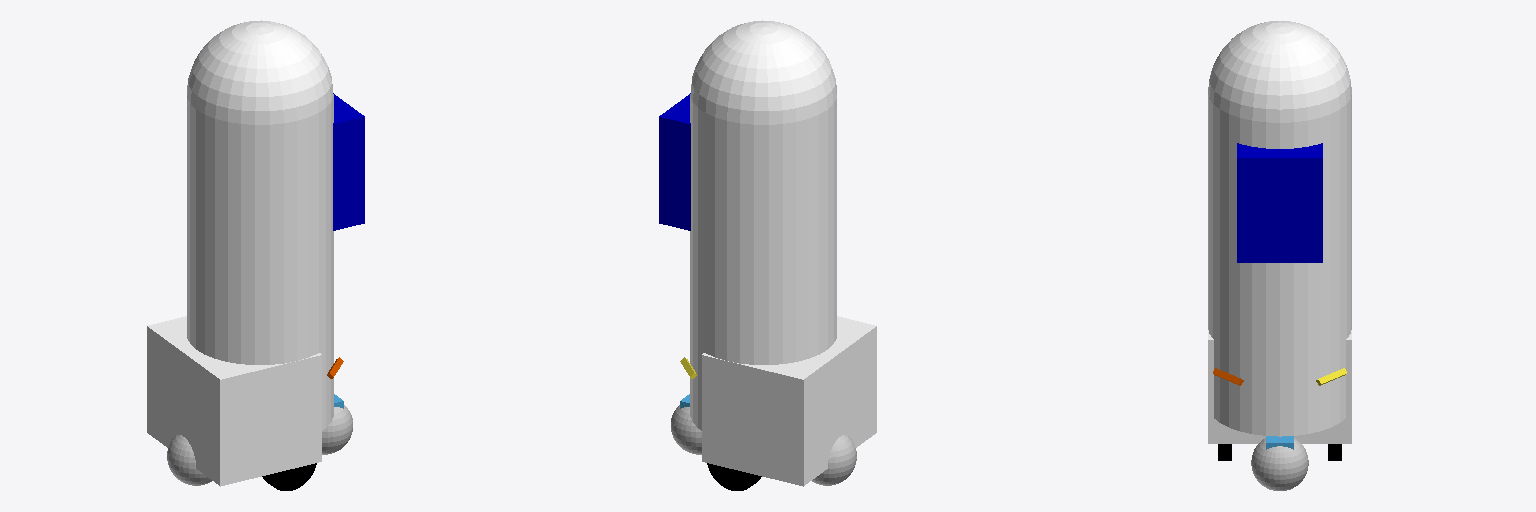
URDF robot description (deliverybot):
<?xml version="1.0" ?>
<!-- =================================================================================== -->
<!-- |    This document was autogenerated by xacro from deliverybot.urdf.xacro         | -->
<!-- |    EDITING THIS FILE BY HAND IS NOT RECOMMENDED                                 | -->
<!-- =================================================================================== -->
<robot name="deliverybot">
  <!-- source en.wikipedia.org/wiki/List_of_moments_of_inertia-->
  <material name="Red">
    <color rgba="1 0 0 1"/>
  </material>
  <material name="Green">
    <color rgba="0 1 0 1"/>
  </material>
  <material name="Blue">
    <color rgba="0 0 0.8 1"/>
  </material>
  <material name="Black">
    <color rgba="0 0 0 1"/>
  </material>
  <material name="White">
    <color rgba="1 1 1 1"/>
  </material>
  <material name="Grey">
    <color rgba="0.8 0.8 0.8 1"/>
  </material>
  <material name="Yellow">
    <color rgba="1 1 0 1"/>
  </material>
  <material name="Orange">
    <color rgba="1 0.5 0 1"/>
  </material>
  <material name="Brown">
    <color rgba="0.6 0.4 0.2 1"/>
  </material>
  <material name="Purple">
    <color rgba="0.5 0 0.5 1"/>
  </material>
  <material name="Cyan">
    <color rgba="0 1 1 1"/>
  </material>
  <!-- Gazebo plugin for ROS Control -->
  <!-- <gazebo>
    <plugin name="gazebo_ros_control" filename="libgazebo_ros_control.so">
      <robotNamespace>/</robotNamespace>
    </plugin>
  </gazebo> -->
  <!-- <gazebo reference="front_lidar">
    <material>Gazebo/FlatBlack</material>
    <sensor type="ray" name="lds_lfcd_sensor">
      <pose>0 0 0 0 0 0</pose>
      <visualize>false</visualize>
      <update_rate>5</update_rate>
      <ray>
        <scan>
          <horizontal>
            <samples>180</samples>
            <resolution>1</resolution>
            <min_angle>${-M_PI_2} </min_angle>
            <max_angle>${M_PI_2}</max_angle>
          </horizontal>
        </scan>
        <range>
          <min>0.120</min>
          <max>3.5</max>
          <resolution>0.015</resolution>
        </range>
        <noise>
          <type>gaussian</type>
          <mean>0.0</mean>
          <stddev>0.01</stddev>
        </noise>
      </ray>
      <plugin name="gazebo_ros_lds_lfcd_controller" filename="libgazebo_ros_laser.so">
        <topicName>scan/front</topicName>
        <frameName>front_lidar</frameName>
      </plugin>
    </sensor>
  </gazebo>

  <gazebo reference="back_lidar">
    <material>Gazebo/FlatBlack</material>
    <sensor type="ray" name="lds_lfcd_sensor">
      <pose>0 0 0 0 0 0</pose>
      <visualize>false</visualize>
      <update_rate>5</update_rate>
      <ray>
        <scan>
          <horizontal>
            <samples>180</samples>
            <resolution>1</resolution>
            <min_angle>${M_PI_2} </min_angle>
            <max_angle>${-M_PI_2}</max_angle>
          </horizontal>
        </scan>
        <range>
          <min>0.120</min>
          <max>3.5</max>
          <resolution>0.015</resolution>
        </range>
        <noise>
          <type>gaussian</type>
          <mean>0.0</mean>
          <stddev>0.01</stddev>
        </noise>
      </ray>
      <plugin name="gazebo_ros_lds_lfcd_controller" filename="libgazebo_ros_laser.so">
        <topicName>scan/back</topicName>
        <frameName>back_lidar</frameName>
      </plugin>
    </sensor>
  </gazebo> -->
  <link name="base_footprint"/>
  <link name="base_link">
    <visual>
      <origin rpy="0 0 0" xyz="0 0 .7"/>
      <geometry>
        <cylinder length="1.2" radius="0.25"/>
      </geometry>
      <material name="White"/>
    </visual>
    <collision>
      <origin rpy="0 0 0" xyz="0 0 .7"/>
      <geometry>
        <cylinder length="1.2" radius="0.25"/>
      </geometry>
    </collision>
    <inertial>
      <mass value="10"/>
      <inertia ixx="1.35625" ixy="0" ixz="0" iyy="1.35625" iyz="0" izz="0.3125"/>
    </inertial>
  </link>
  <gazebo reference="base_link">
    <material>Gazebo/White</material>
    <mu1>0.2</mu1>
    <mu2>0.2</mu2>
    <kp>500000.0</kp>
    <kd>10.0</kd>
    <minDepth>0.001</minDepth>
    <maxVel>0.1</maxVel>
    <fdir1>1 0 0</fdir1>
  </gazebo>
  <joint name="base_joint" type="fixed">
    <parent link="base_footprint"/>
    <child link="base_link"/>
    <origin rpy="0 0 0" xyz="0 0 0.1"/>
  </joint>
  <link name="screen">
    <visual>
      <origin rpy="0 0 0" xyz=".25 0 1"/>
      <geometry>
        <box size="0.15 0.3 0.4"/>
      </geometry>
      <material name="Blue"/>
    </visual>
    <collision>
      <origin rpy="0 0 0" xyz=".25 0 1"/>
      <geometry>
        <box size="0.15 0.3 0.4"/>
      </geometry>
    </collision>
    <inertial>
      <mass value="1"/>
      <inertia ixx="0.020833333333333332" ixy="0" ixz="0" iyy="0.015208333333333336" iyz="0" izz="0.009375"/>
    </inertial>
  </link>
  <gazebo reference="screen">
    <material>Gazebo/Blue</material>
    <mu1>0.2</mu1>
    <mu2>0.2</mu2>
    <kp>500000.0</kp>
    <kd>10.0</kd>
    <minDepth>0.001</minDepth>
    <maxVel>0.1</maxVel>
    <fdir1>1 0 0</fdir1>
  </gazebo>
  <joint name="screen_joint" type="fixed">
    <parent link="base_link"/>
    <child link="screen"/>
    <origin rpy="0 0 0" xyz="0 0 0"/>
  </joint>
  <link name="butt">
    <visual>
      <origin rpy="0 0 0" xyz="0 0 0"/>
      <geometry>
        <box size="0.4 0.5 0.4"/>
      </geometry>
      <material name="White"/>
    </visual>
    <collision>
      <origin rpy="0 0 0" xyz="0 0 0"/>
      <geometry>
        <box size="0.4 0.5 0.4"/>
      </geometry>
    </collision>
    <inertial>
      <mass value="1"/>
      <inertia ixx="0.03416666666666667" ixy="0" ixz="0" iyy="0.026666666666666672" iyz="0" izz="0.03416666666666667"/>
    </inertial>
  </link>
  <gazebo reference="butt">
    <material>Gazebo/White</material>
    <mu1>0.2</mu1>
    <mu2>0.2</mu2>
    <kp>500000.0</kp>
    <kd>10.0</kd>
    <minDepth>0.001</minDepth>
    <maxVel>0.1</maxVel>
    <fdir1>1 0 0</fdir1>
  </gazebo>
  <joint name="butt_joint" type="fixed">
    <parent link="base_link"/>
    <child link="butt"/>
    <origin rpy="0 0 0" xyz="-.1 0 0.2"/>
  </joint>
  <link name="head">
    <visual>
      <origin rpy="0 0 0" xyz="0 0 0"/>
      <geometry>
        <sphere radius="0.25"/>
      </geometry>
      <material name="White"/>
    </visual>
    <collision>
      <origin rpy="0 0 0" xyz="0 0 0"/>
      <geometry>
        <sphere radius="0.25"/>
      </geometry>
    </collision>
    <inertial>
      <mass value="1"/>
      <inertia ixx="0.025" ixy="0" ixz="0" iyy="0.025" iyz="0" izz="0.025"/>
    </inertial>
  </link>
  <gazebo reference="head">
    <material>Gazebo/White</material>
    <mu1>0.2</mu1>
    <mu2>0.2</mu2>
    <kp>500000.0</kp>
    <kd>10.0</kd>
    <minDepth>0.001</minDepth>
    <maxVel>0.1</maxVel>
    <fdir1>1 0 0</fdir1>
  </gazebo>
  <joint name="joint_head" type="fixed">
    <parent link="base_link"/>
    <child link="head"/>
    <origin rpy="0 0 0" xyz="0 0 1.3"/>
  </joint>
  <link name="left_wheel">
    <visual>
      <origin rpy="0 0 0" xyz="0 0 0"/>
      <geometry>
        <cylinder length="0.05" radius="0.1"/>
      </geometry>
      <material name="Black"/>
    </visual>
    <collision>
      <origin rpy="0 0 0" xyz="0 0 0"/>
      <geometry>
        <cylinder length="0.05" radius="0.1"/>
      </geometry>
    </collision>
    <inertial>
      <mass value="0.1"/>
      <inertia ixx="0.00027083333333333343" ixy="0" ixz="0" iyy="0.00027083333333333343" iyz="0" izz="0.0005000000000000001"/>
    </inertial>
  </link>
  <gazebo reference="left_wheel">
    <material>Gazebo/Black</material>
    <mu1>1000</mu1>
    <mu2>1000</mu2>
    <kp>500000.0</kp>
    <kd>10.0</kd>
    <minDepth>0.001</minDepth>
    <maxVel>0.1</maxVel>
    <fdir1>1 0 0</fdir1>
  </gazebo>
  <joint name="left_wheel_joint" type="continuous">
    <axis rpy="0 0 0" xyz="0 0 1"/>
    <parent link="base_link"/>
    <child link="left_wheel"/>
    <origin rpy="-1.5707963267948966 0 0" xyz="0 0.19 0"/>
  </joint>
  <link name="right_wheel">
    <visual>
      <origin rpy="0 0 0" xyz="0 0 0"/>
      <geometry>
        <cylinder length="0.05" radius="0.1"/>
      </geometry>
      <material name="Black"/>
    </visual>
    <collision>
      <origin rpy="0 0 0" xyz="0 0 0"/>
      <geometry>
        <cylinder length="0.05" radius="0.1"/>
      </geometry>
    </collision>
    <inertial>
      <mass value="0.1"/>
      <inertia ixx="0.00027083333333333343" ixy="0" ixz="0" iyy="0.00027083333333333343" iyz="0" izz="0.0005000000000000001"/>
    </inertial>
  </link>
  <gazebo reference="right_wheel">
    <material>Gazebo/Black</material>
    <mu1>1000</mu1>
    <mu2>1000</mu2>
    <kp>500000.0</kp>
    <kd>10.0</kd>
    <minDepth>0.001</minDepth>
    <maxVel>0.1</maxVel>
    <fdir1>1 0 0</fdir1>
  </gazebo>
  <joint name="right_wheel_joint" type="continuous">
    <axis rpy="0 0 0" xyz="0 0 1"/>
    <parent link="base_link"/>
    <child link="right_wheel"/>
    <origin rpy="-1.5707963267948966 0 0" xyz="0 -0.19 0"/>
  </joint>
  <gazebo>
    <plugin filename="libgazebo_ros_diff_drive.so" name="diff_drive_controller">
      <!-- Plugin update rate in Hz -->
      <!-- <updateRate>${update_rate}</updateRate> -->
      <left_joint>left_wheel_joint</left_joint>
      <right_joint>right_wheel_joint</right_joint>
      <!-- kinematics -->
      <wheel_separation>0.38</wheel_separation>
      <wheel_diameter>0.2</wheel_diameter>
      <!-- limits -->
      <max_wheel_acceleration>1.0</max_wheel_acceleration>
      <max_wheel_torque>20</max_wheel_torque>
      <!-- topics and frames -->
      <command_topic>cmd_vel</command_topic>
      <odometry_topic>odom</odometry_topic>
      <odometry_frame>odom</odometry_frame>
      <robot_base_frame>base_footprint</robot_base_frame>
      <!-- Odometry source, 0 for ENCODER, 1 for WORLD, defaults to WORLD -->
      <!-- <odometry_source>world</odometry_source> -->
      <!-- output -->
      <publish_odom>true</publish_odom>
      <publish_odom_tf>False</publish_odom_tf>
      <publish_wheel_tf>false</publish_wheel_tf>
      <!-- <publish_wheel_joint_state>true</publish_wheel_joint_state> -->
      <!-- <publish_tf>true</publish_tf> -->
    </plugin>
  </gazebo>
  <link name="casterwheel_back">
    <visual>
      <origin rpy="0 0 0" xyz="0 0 0"/>
      <geometry>
        <sphere radius="0.1"/>
      </geometry>
      <material name="Grey"/>
    </visual>
    <collision>
      <origin rpy="0 0 0" xyz="0 0 0"/>
      <geometry>
        <sphere radius="0.1"/>
      </geometry>
    </collision>
    <inertial>
      <mass value="0.1"/>
      <inertia ixx="0.0004000000000000001" ixy="0" ixz="0" iyy="0.0004000000000000001" iyz="0" izz="0.0004000000000000001"/>
    </inertial>
  </link>
  <gazebo reference="casterwheel_back">
    <material>Gazebo/Grey</material>
    <mu1>0.1</mu1>
    <mu2>0.1</mu2>
    <kp>500000.0</kp>
    <kd>10.0</kd>
    <minDepth>0.001</minDepth>
    <maxVel>0.1</maxVel>
    <fdir1>1 0 0</fdir1>
  </gazebo>
  <joint name="joint_casterwheel_back" type="fixed">
    <parent link="base_link"/>
    <child link="casterwheel_back"/>
    <origin rpy="0 0 0" xyz="-.25 0 -.0"/>
  </joint>
  <link name="casterwheel_front">
    <visual>
      <origin rpy="0 0 0" xyz="0 0 0"/>
      <geometry>
        <sphere radius="0.1"/>
      </geometry>
      <material name="Grey"/>
    </visual>
    <collision>
      <origin rpy="0 0 0" xyz="0 0 0"/>
      <geometry>
        <sphere radius="0.1"/>
      </geometry>
    </collision>
    <inertial>
      <mass value="0.1"/>
      <inertia ixx="0.0004000000000000001" ixy="0" ixz="0" iyy="0.0004000000000000001" iyz="0" izz="0.0004000000000000001"/>
    </inertial>
  </link>
  <gazebo reference="casterwheel_front">
    <material>Gazebo/Grey</material>
    <mu1>0.1</mu1>
    <mu2>0.1</mu2>
    <kp>500000.0</kp>
    <kd>10.0</kd>
    <minDepth>0.001</minDepth>
    <maxVel>0.1</maxVel>
    <fdir1>1 0 0</fdir1>
  </gazebo>
  <joint name="joint_casterwheel_front" type="fixed">
    <parent link="base_link"/>
    <child link="casterwheel_front"/>
    <origin rpy="0 0 0" xyz=".25 0 -.0"/>
  </joint>
  <link name="scan">
    <collision>
      <origin rpy="0 0 0" xyz="0 0 0"/>
      <geometry>
        <box size="0.1 0.1 0.1"/>
      </geometry>
    </collision>
    <visual>
      <origin rpy="0 0 0" xyz="0 0 0"/>
      <geometry>
        <box size="0.1 0.1 0.1"/>
        <!-- <mesh filename="package://urdf_basic_shapes/meshes/hokuyo.dae"/> -->
      </geometry>
    </visual>
    <inertial>
      <mass value="1e-5"/>
      <origin rpy="0 0 0" xyz="0 0 0"/>
      <inertia ixx="1e-6" ixy="0" ixz="0" iyy="1e-6" iyz="0" izz="1e-6"/>
    </inertial>
  </link>
  <joint name="scan_joint" type="fixed">
    <axis xyz="0 1 0"/>
    <origin rpy="0 3.141592653589793 0" xyz=".25 0 .05"/>
    <parent link="base_link"/>
    <child link="scan"/>
  </joint>
  <!-- hokuyo -->
  <gazebo reference="scan">
    <sensor name="scan_hokuyo_sensor" type="ray">
      <always_on>true</always_on>
      <visualize>true</visualize>
      <update_rate>10</update_rate>
      <ray>
        <scan>
          <horizontal>
            <samples>360</samples>
            <resolution>1</resolution>
            <min_angle>0.000000</min_angle>
            <max_angle>6.280000</max_angle>
          </horizontal>
        </scan>
        <range>
          <min>0.120000</min>
          <max>40</max>
          <resolution>0.030000</resolution>
        </range>
        <noise>
          <type>gaussian</type>
          <mean>0.0</mean>
          <stddev>0.05</stddev>
        </noise>
      </ray>
      <plugin filename="libgazebo_ros_ray_sensor.so" name="gazebo_ros_scan_controller">
        <ros>
          <remapping>~/out:=scan</remapping>
        </ros>
        <output_type>sensor_msgs/LaserScan</output_type>
        <frame_name>scan</frame_name>
      </plugin>
    </sensor>
  </gazebo>
  <link name="imu"/>
  <joint name="imu_joint" type="fixed">
    <axis xyz="0 0 0"/>
    <origin rpy="0 0 0" xyz="-0.15 0 .5"/>
    <parent link="base_link"/>
    <child link="imu"/>
  </joint>
  <!-- imu -->
  <gazebo reference="imu">
    <sensor name="imu" type="imu">
      <plugin filename="libgazebo_ros_imu_sensor.so" name="imu_plugin">
        <ros>
          <namespace/>
          <remapping>~/out:=imu</remapping>
        </ros>
        <initial_orientation_as_reference>false</initial_orientation_as_reference>
      </plugin>
      <always_on>true</always_on>
      <update_rate>100</update_rate>
      <visualize>true</visualize>
      <imu>
        <angular_velocity>
          <x>
            <noise type="gaussian">
              <mean>0.0</mean>
              <stddev>2e-4</stddev>
              <bias_mean>0.0000075</bias_mean>
              <bias_stddev>0.0000008</bias_stddev>
            </noise>
          </x>
          <y>
            <noise type="gaussian">
              <mean>0.0</mean>
              <stddev>2e-4</stddev>
              <bias_mean>0.0000075</bias_mean>
              <bias_stddev>0.0000008</bias_stddev>
            </noise>
          </y>
          <z>
            <noise type="gaussian">
              <mean>0.0</mean>
              <stddev>2e-4</stddev>
              <bias_mean>0.0000075</bias_mean>
              <bias_stddev>0.0000008</bias_stddev>
            </noise>
          </z>
        </angular_velocity>
        <linear_acceleration>
          <x>
            <noise type="gaussian">
              <mean>0.0</mean>
              <stddev>1.7e-2</stddev>
              <bias_mean>0.1</bias_mean>
              <bias_stddev>0.001</bias_stddev>
            </noise>
          </x>
          <y>
            <noise type="gaussian">
              <mean>0.0</mean>
              <stddev>1.7e-2</stddev>
              <bias_mean>0.1</bias_mean>
              <bias_stddev>0.001</bias_stddev>
            </noise>
          </y>
          <z>
            <noise type="gaussian">
              <mean>0.0</mean>
              <stddev>1.7e-2</stddev>
              <bias_mean>0.1</bias_mean>
              <bias_stddev>0.001</bias_stddev>
            </noise>
          </z>
        </linear_acceleration>
      </imu>
    </sensor>
  </gazebo>
  <!-- better not use "/" in "name" can cause some warnings -->
  <link name="cameraL">
    <visual>
      <origin rpy="0 0 0" xyz="0 0 0"/>
      <geometry>
        <box size="0.015 0.130 0.022"/>
      </geometry>
    </visual>
    <collision>
      <origin rpy="0 0 0 " xyz="0 0 0 "/>
      <geometry>
        <box size="0.015 0.130 0.022"/>
      </geometry>
    </collision>
    <inertial>
      <origin rpy="0 0 0 " xyz="0 0 0 "/>
      <mass value="0.035"/>
      <inertia ixx="0.001" ixy="0" ixz="0" iyy="0.001" iyz="0" izz="0.001"/>
    </inertial>
  </link>
  <joint name="cameraL_joint" type="fixed">
    <parent link="base_link"/>
    <child link="cameraL"/>
    <origin rpy="0 -0.7853981633974483 0.7853981633974483" xyz=".19 0.18 .3"/>
  </joint>
  <link name="cameraL_depth_frame"/>
  <joint name="cameraL_depth_joint" type="fixed">
    <origin rpy="-1.5707963267948966 0 -1.5707963267948966" xyz="0 0 0"/>
    <parent link="cameraL"/>
    <child link="cameraL_depth_frame"/>
  </joint>
  <gazebo reference="cameraL">
    <sensor name="depth_cameraL" type="depth">
      <visualize>true</visualize>
      <update_rate>30.0</update_rate>
      <camera name="cameraL">
        <horizontal_fov>1.047198</horizontal_fov>
        <image>
          <width>640</width>
          <height>480</height>
          <format>R8G8B8</format>
        </image>
        <clip>
          <near>0.05</near>
          <far>3</far>
        </clip>
      </camera>
      <plugin filename="libgazebo_ros_camera.so" name="depth_cameraL_controller">
        <baseline>0.2</baseline>
        <alwaysOn>true</alwaysOn>
        <updateRate>0.0</updateRate>
        <frame_name>cameraL_depth_frame</frame_name>
        <pointCloudCutoff>0.5</pointCloudCutoff>
        <pointCloudCutoffMax>3.0</pointCloudCutoffMax>
        <distortionK1>0</distortionK1>
        <distortionK2>0</distortionK2>
        <distortionK3>0</distortionK3>
        <distortionT1>0</distortionT1>
        <distortionT2>0</distortionT2>
        <CxPrime>0</CxPrime>
        <Cx>0</Cx>
        <Cy>0</Cy>
        <focalLength>0</focalLength>
        <hackBaseline>0</hackBaseline>
      </plugin>
    </sensor>
  </gazebo>
  <link name="cameraR">
    <visual>
      <origin rpy="0 0 0" xyz="0 0 0"/>
      <geometry>
        <box size="0.015 0.130 0.022"/>
      </geometry>
    </visual>
    <collision>
      <origin rpy="0 0 0 " xyz="0 0 0 "/>
      <geometry>
        <box size="0.015 0.130 0.022"/>
      </geometry>
    </collision>
    <inertial>
      <origin rpy="0 0 0 " xyz="0 0 0 "/>
      <mass value="0.035"/>
      <inertia ixx="0.001" ixy="0" ixz="0" iyy="0.001" iyz="0" izz="0.001"/>
    </inertial>
  </link>
  <joint name="cameraR_joint" type="fixed">
    <parent link="base_link"/>
    <child link="cameraR"/>
    <origin rpy="3.141592653589793 -0.7853981633974483 -0.7853981633974483" xyz=".19 -.18 .3"/>
  </joint>
  <link name="cameraR_depth_frame"/>
  <joint name="cameraR_depth_joint" type="fixed">
    <origin rpy="-1.5707963267948966 0 -1.5707963267948966" xyz="0 0 0"/>
    <parent link="cameraR"/>
    <child link="cameraR_depth_frame"/>
  </joint>
  <gazebo reference="cameraR">
    <sensor name="depth_cameraR" type="depth">
      <visualize>true</visualize>
      <update_rate>30.0</update_rate>
      <camera name="cameraR">
        <horizontal_fov>1.047198</horizontal_fov>
        <image>
          <width>640</width>
          <height>480</height>
          <format>R8G8B8</format>
        </image>
        <clip>
          <near>0.05</near>
          <far>3</far>
        </clip>
      </camera>
      <plugin filename="libgazebo_ros_camera.so" name="depth_cameraR_controller">
        <baseline>0.2</baseline>
        <alwaysOn>true</alwaysOn>
        <updateRate>0.0</updateRate>
        <frame_name>cameraR_depth_frame</frame_name>
        <pointCloudCutoff>0.5</pointCloudCutoff>
        <pointCloudCutoffMax>3.0</pointCloudCutoffMax>
        <distortionK1>0</distortionK1>
        <distortionK2>0</distortionK2>
        <distortionK3>0</distortionK3>
        <distortionT1>0</distortionT1>
        <distortionT2>0</distortionT2>
        <CxPrime>0</CxPrime>
        <Cx>0</Cx>
        <Cy>0</Cy>
        <focalLength>0</focalLength>
        <hackBaseline>0</hackBaseline>
      </plugin>
    </sensor>
  </gazebo>
</robot>

--- Facts derived from the render (not from the file) ---
3 views of the same robot in one strip: view 1: azimuth 30°, elevation 25°; view 2: azimuth 150°, elevation 25°; view 3: azimuth 270°, elevation 25° (orthographic).
Model deliverybot with 15 links and 14 joints (2 continuous, 12 fixed), rooted at base_footprint, posed every joint at zero.
Links seen in each view (by area): view 1: base_link, butt, head, screen, casterwheel_back, casterwheel_front, right_wheel; view 2: base_link, butt, head, screen, casterwheel_back, casterwheel_front, left_wheel; view 3: base_link, head, screen, butt, casterwheel_front.
Boxes of the visible links, <box> form: base_link: <box>187,96,333,430</box>; butt: <box>147,316,321,486</box>; head: <box>187,20,333,124</box>; screen: <box>333,93,364,230</box>; casterwheel_back: <box>167,435,211,485</box>; casterwheel_front: <box>322,405,352,454</box>; right_wheel: <box>262,463,316,490</box>; base_link: <box>690,96,836,430</box>; butt: <box>702,316,876,486</box>; head: <box>690,20,836,124</box>; screen: <box>659,93,690,230</box>; casterwheel_back: <box>812,435,856,485</box>; casterwheel_front: <box>671,405,701,454</box>; left_wheel: <box>707,463,761,490</box>; base_link: <box>1208,95,1351,436</box>; head: <box>1208,21,1351,122</box>; screen: <box>1237,143,1322,262</box>; butt: <box>1208,330,1351,443</box>; casterwheel_front: <box>1251,438,1308,490</box>.
Size in the robot's own frame: 0.7 by 0.5 by 1.65 metres.
Geometry: primitives only (box / cylinder / sphere), no mesh files.